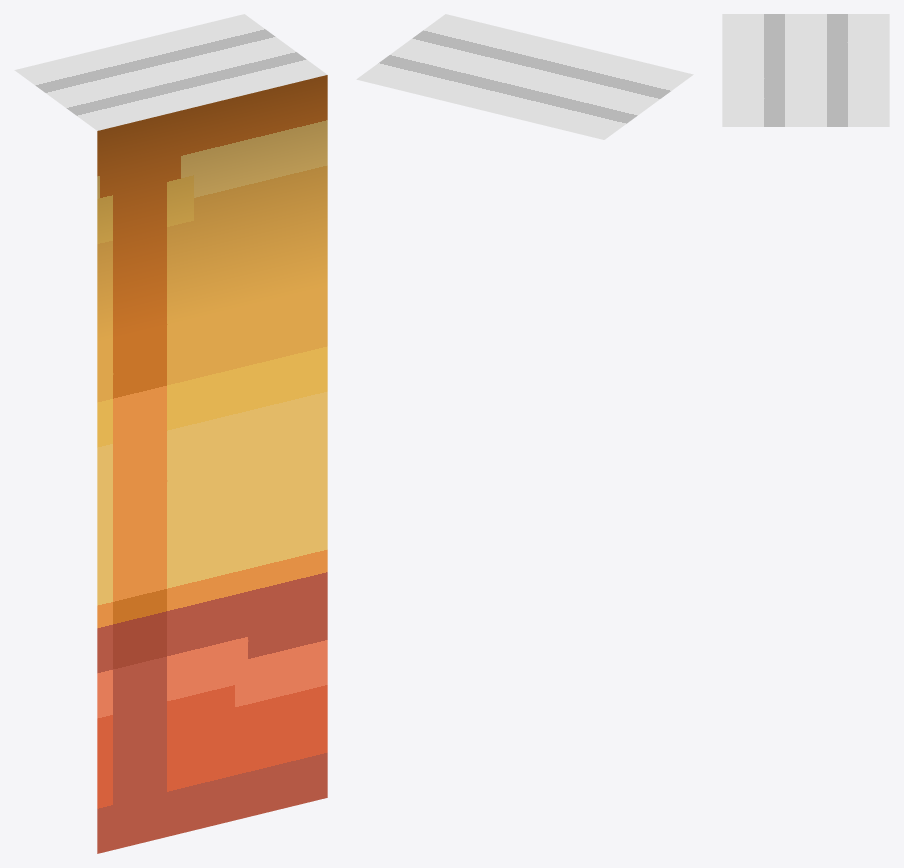
3 renders of one model, left to right at view 1: azimuth 30°, elevation 25°; view 2: azimuth 150°, elevation 25°; view 3: azimuth 270°, elevation 25°, orthographic. The views are drawn at different scales.
Size of the model in its own units: 1 by 3 by 0.625.
Materials: 2 (2 with a texture image).
